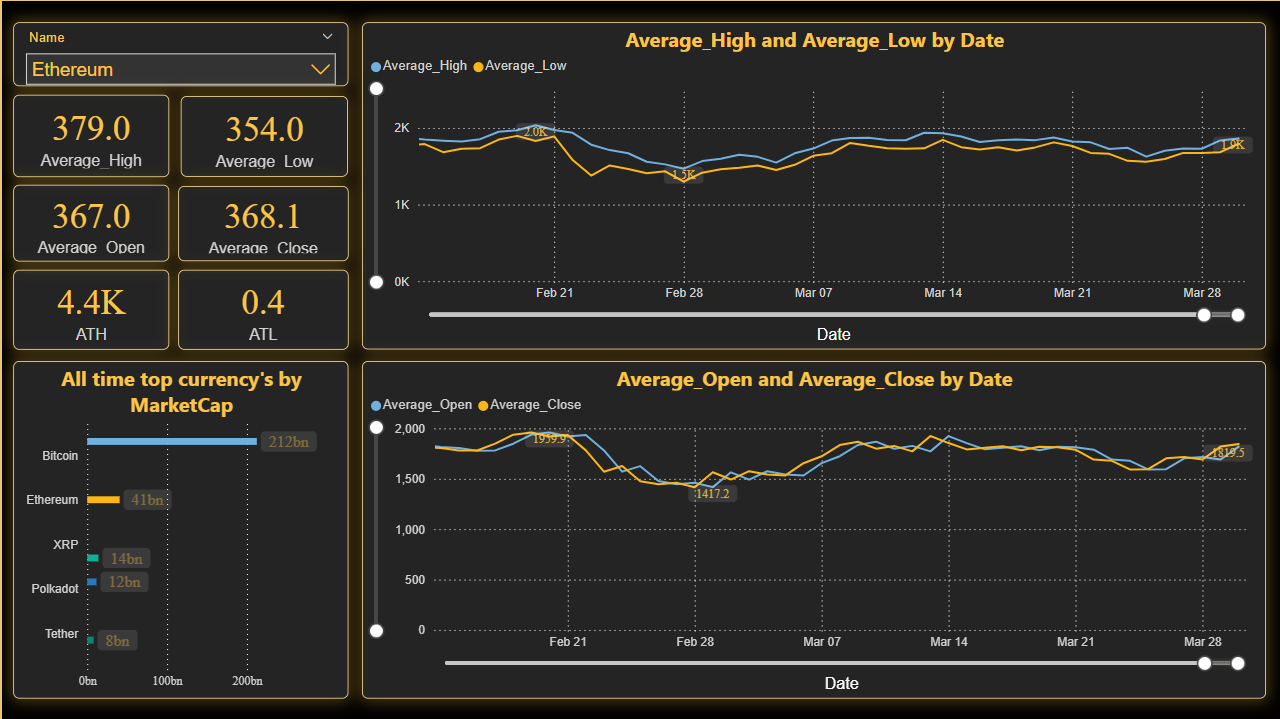

This screenshot's page, from the dashboard's own definition file:
{"tool":"powerbi","page":{"name":"page 2","canvas":[1280,720],"ordinal":1},"visuals":[{"type":"slicer","fields":{"Values":["coins_table.Name"]},"box":[11.2,21.2,335,63.8],"z":1000},{"type":"lineChart","fields":{"Category":["Datetable.Date"],"Y":["MyCalculation.Average_High","MyCalculation.Average_Low"]},"box":[360,21.2,903.8,327.5],"z":2000},{"type":"card","fields":{"Values":["MyCalculation.ATH"]},"box":[11.2,268.9,156.2,79.9],"z":2000},{"type":"card","fields":{"Values":["MyCalculation.Low"]},"box":[178.7,94.8,167.5,81],"z":3000},{"type":"card","fields":{"Values":["MyCalculation.High"]},"box":[11.2,93.8,156.2,82.1],"z":4000},{"type":"card","fields":{"Values":["MyCalculation.ATL"]},"box":[176.2,268.9,170,79.9],"z":5000},{"type":"card","fields":{"Values":["MyCalculation.Open"]},"box":[11.2,183.5,156.2,76.6],"z":8000},{"type":"card","fields":{"Values":["MyCalculation.Close"]},"box":[176.7,185,170,75],"z":9000},{"type":"lineChart","fields":{"Category":["Datetable.Date"],"Y":["MyCalculation.Average_Open","MyCalculation.Average_Close"]},"box":[360,360,903.8,337.5],"z":9000},{"type":"clusteredBarChart","title":"All time top  currency''s by MarketCap","fields":{"Y":["MyCalculation.Average_MarketCap"],"Category":["coins_table.Name"],"Series":["coins_table.Symbol"]},"box":[11.2,360,335,337.5],"z":10000}]}

Visuals, with their boxes in screenshot pixels (x1, y1, x2, y2), scaled from the page's 1280x720 canvas onto the 1280x719 screenshot:
slicer - coins_table.Name: detection(11, 21, 346, 85)
lineChart - Datetable.Date x MyCalculation.Average_High: detection(360, 21, 1264, 348)
card - MyCalculation.ATH: detection(11, 269, 167, 348)
card - MyCalculation.Low: detection(179, 95, 346, 176)
card - MyCalculation.High: detection(11, 94, 167, 176)
card - MyCalculation.ATL: detection(176, 269, 346, 348)
card - MyCalculation.Open: detection(11, 183, 167, 260)
card - MyCalculation.Close: detection(177, 185, 347, 260)
lineChart - Datetable.Date x MyCalculation.Average_Open: detection(360, 360, 1264, 697)
"All time top  currency''s by MarketCap" clusteredBarChart: detection(11, 360, 346, 697)
